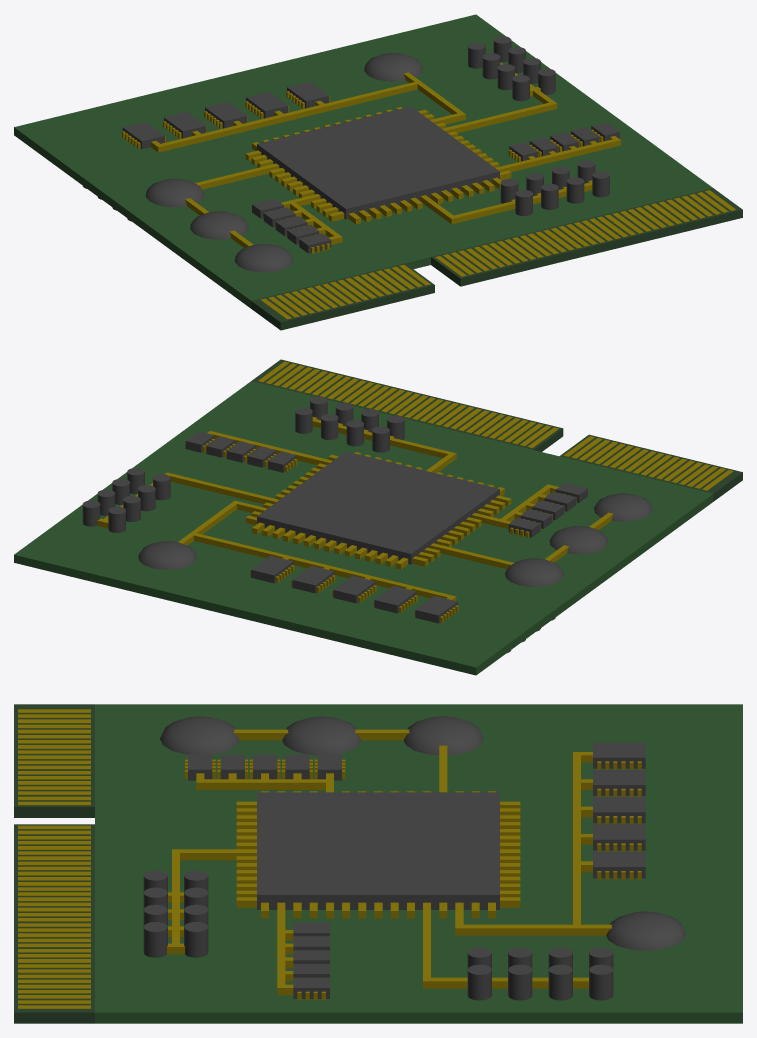
The model's file is Circut.fbx.
3 renders of one model, top to bottom at view 1: azimuth 30°, elevation 25°; view 2: azimuth 150°, elevation 25°; view 3: azimuth 270°, elevation 25°, orthographic. The views are drawn at different scales.
Visible parts, largest first — view 1: Cube; view 2: Cube; view 3: Cube.
Boxes of the visible parts, x1=… form: Cube: x1=14, y1=14, x2=742, y2=330; Cube: x1=14, y1=359, x2=742, y2=675; Cube: x1=14, y1=704, x2=742, y2=1023.
Bounding box in the file's own units: 18000 × 1700 × 18000.
